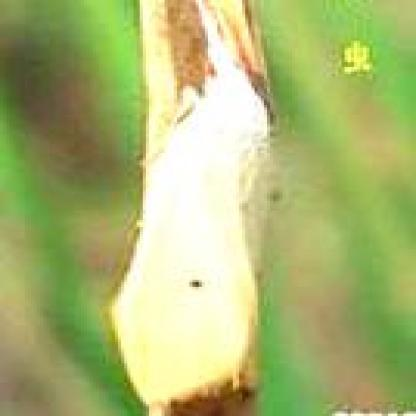stem-borer: (108, 0, 278, 416)
